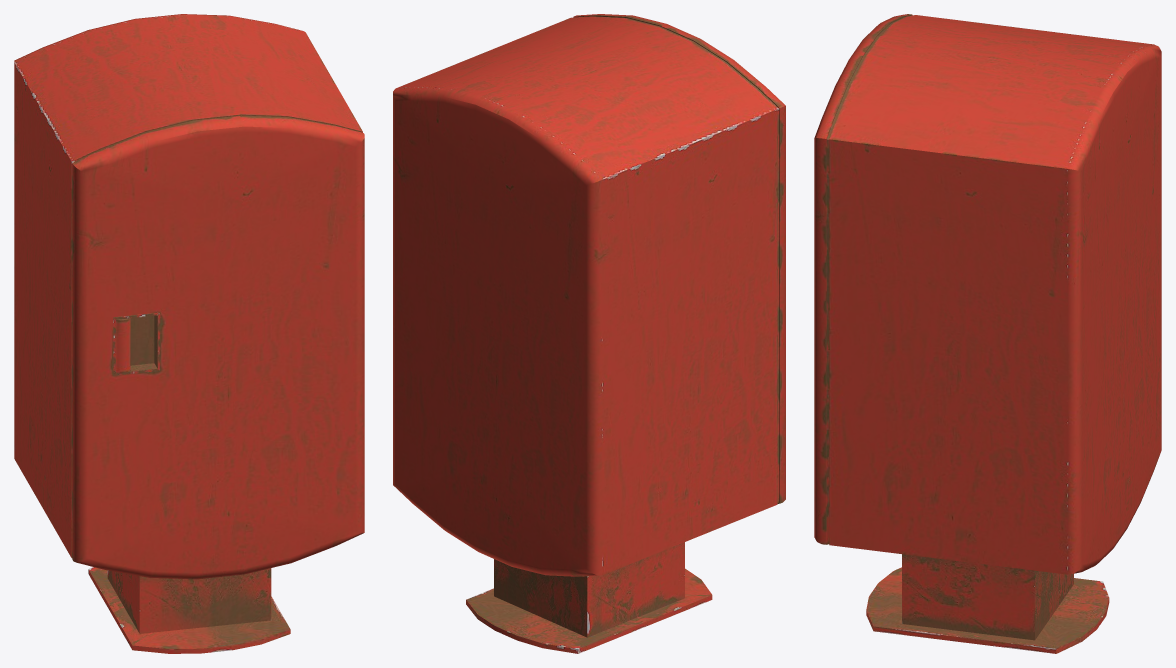
The model's file is utility.glb.
3 renders of one model, left to right at view 1: azimuth 30°, elevation 25°; view 2: azimuth 150°, elevation 25°; view 3: azimuth 270°, elevation 25°, orthographic. The views are drawn at different scales.
Visible parts, largest first — view 1: utility; view 2: utility; view 3: utility.
Boxes of the visible parts, x1,y1,x2,y2 form: utility: (14, 14, 364, 653); utility: (393, 14, 785, 653); utility: (814, 14, 1161, 653).
Bounding box in the file's own units: 1 × 1.65 × 0.9496.
Materials: 1 (1 with a texture image).
